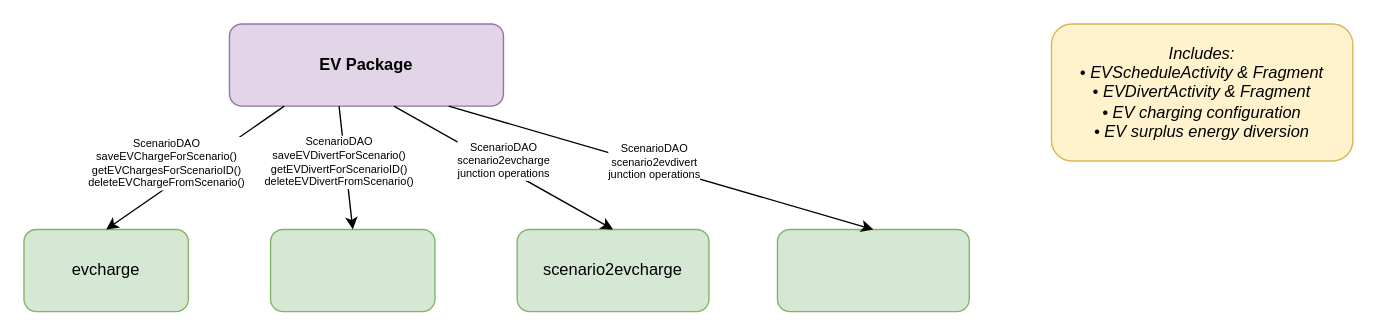
This 1377x336 diagram has some shape labels left out. Here are the shapes that lost their labels. From the top down, the centre of each, then its label:
[352,270]: evdivert
[872,270]: scenario2evdivert
